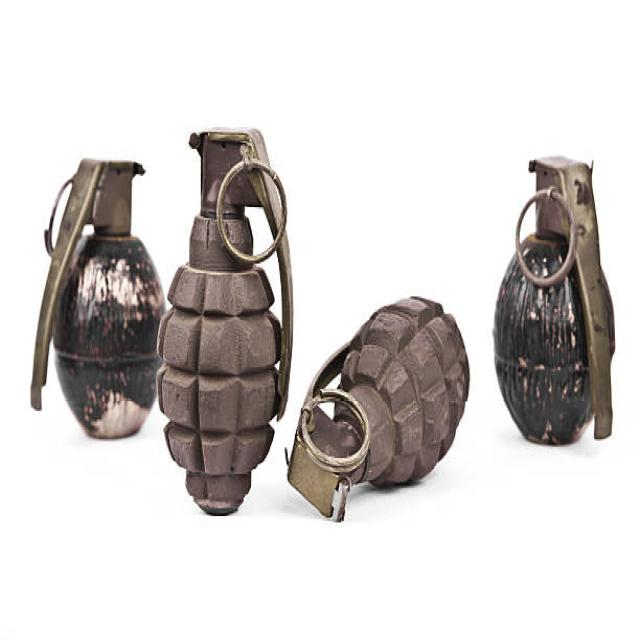grenade: (150, 124, 300, 521), (284, 292, 474, 526), (25, 152, 167, 442), (495, 149, 623, 450)
